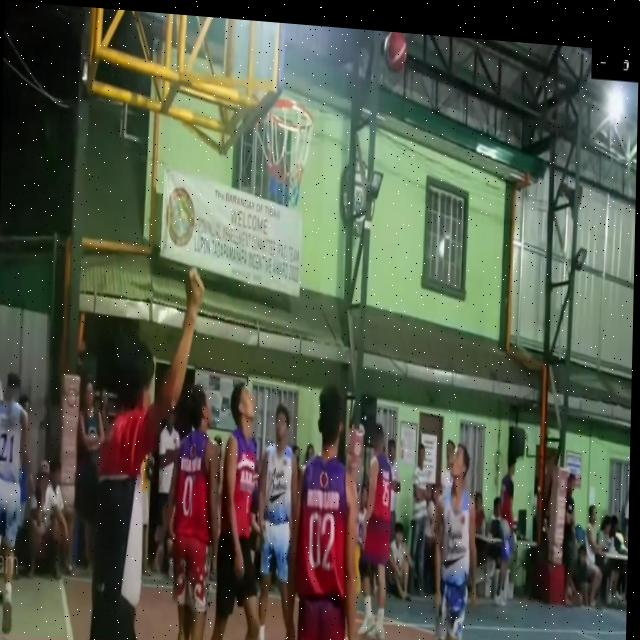basketball: (378, 31, 409, 80)
hoop: (248, 79, 322, 237)
